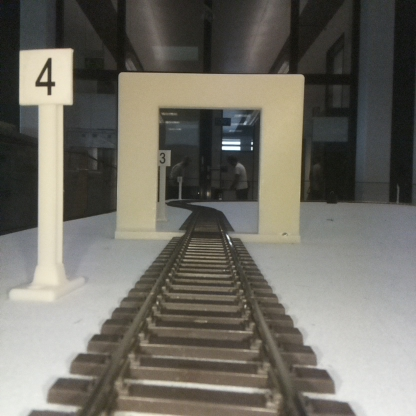white-info-3: (156, 149, 170, 220)
white-info-4: (19, 49, 72, 297)
